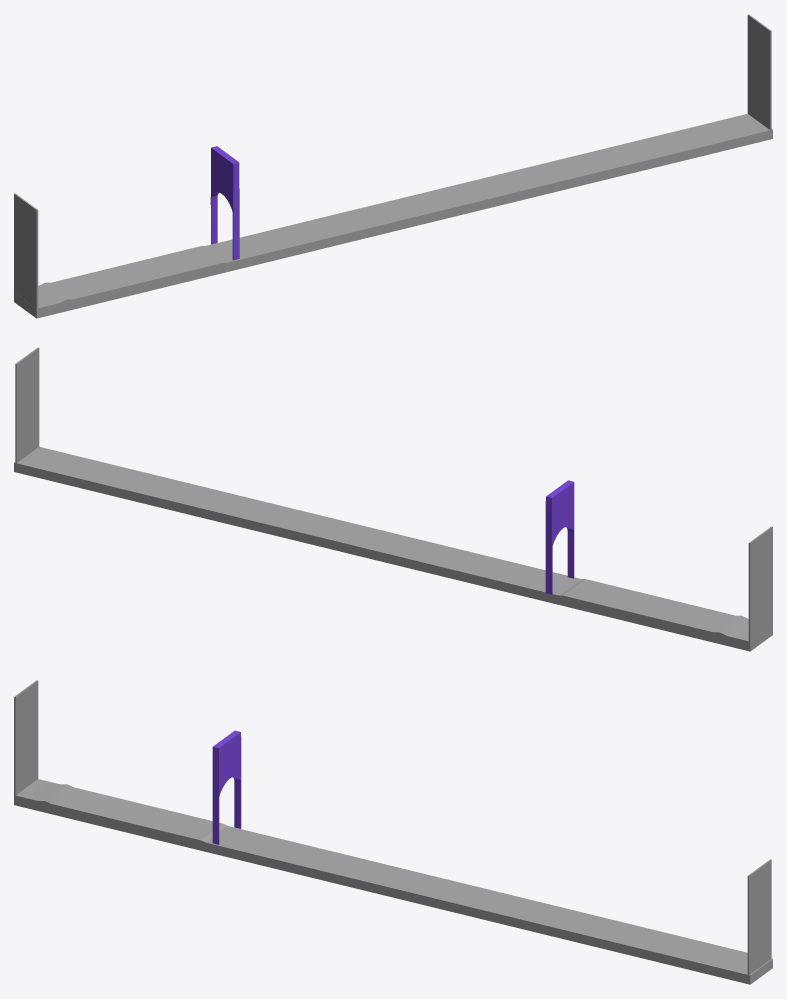
File: FBX_Colision.fbx
3 views of the same model, one above another, from view 1: azimuth 30°, elevation 25°; view 2: azimuth 150°, elevation 25°; view 3: azimuth 330°, elevation 25° (orthographic).
Visible parts, largest first — view 1: SM_Colision_01, SM_Colision_04, SM_Colision_02, SM_Colision_03; view 2: SM_Colision_01, SM_Colision_04, SM_Colision_02, SM_Colision_03; view 3: SM_Colision_01, SM_Colision_04, SM_Colision_02, SM_Colision_03.
Boxes of the visible parts, x1,y1,x2,y2 form: SM_Colision_01: (14,114,772,318); SM_Colision_04: (747,14,771,137); SM_Colision_02: (14,193,38,316); SM_Colision_03: (210,146,239,260); SM_Colision_01: (14,447,772,651); SM_Colision_04: (15,347,39,463); SM_Colision_02: (748,526,772,641); SM_Colision_03: (545,480,574,594); SM_Colision_01: (14,779,772,984); SM_Colision_04: (747,859,771,982); SM_Colision_02: (14,680,38,804); SM_Colision_03: (212,730,241,844).
Size of the model in its own units: 5629 by 791 by 310.
